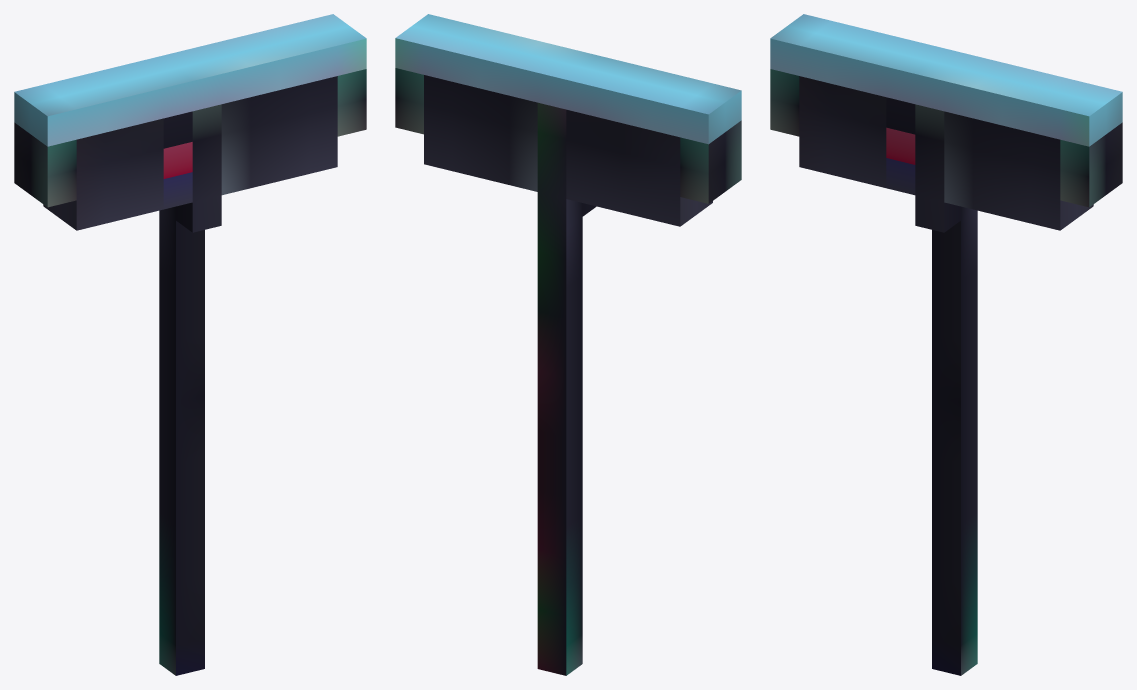
Rendered from Neon_Blue_Small_00.fbx.
3 views of the same model, side by side, from view 1: azimuth 30°, elevation 25°; view 2: azimuth 150°, elevation 25°; view 3: azimuth 330°, elevation 25° (orthographic).
Parts seen in each view (by area): view 1: Neon_Blue_Small_00; view 2: Neon_Blue_Small_00; view 3: Neon_Blue_Small_00.
Part boxes in pixels (bbox=[...]): Neon_Blue_Small_00: bbox=[14, 14, 366, 675]; Neon_Blue_Small_00: bbox=[395, 14, 741, 675]; Neon_Blue_Small_00: bbox=[770, 14, 1122, 675].
Size of the model in its own units: 55 by 100 by 10.
